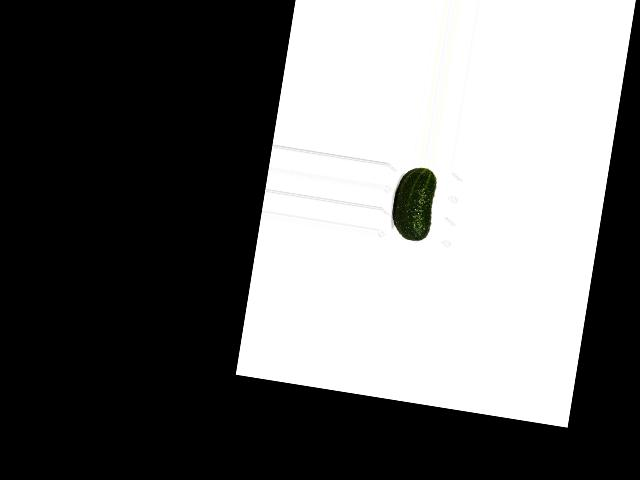cucumber: (388, 164, 438, 243)
